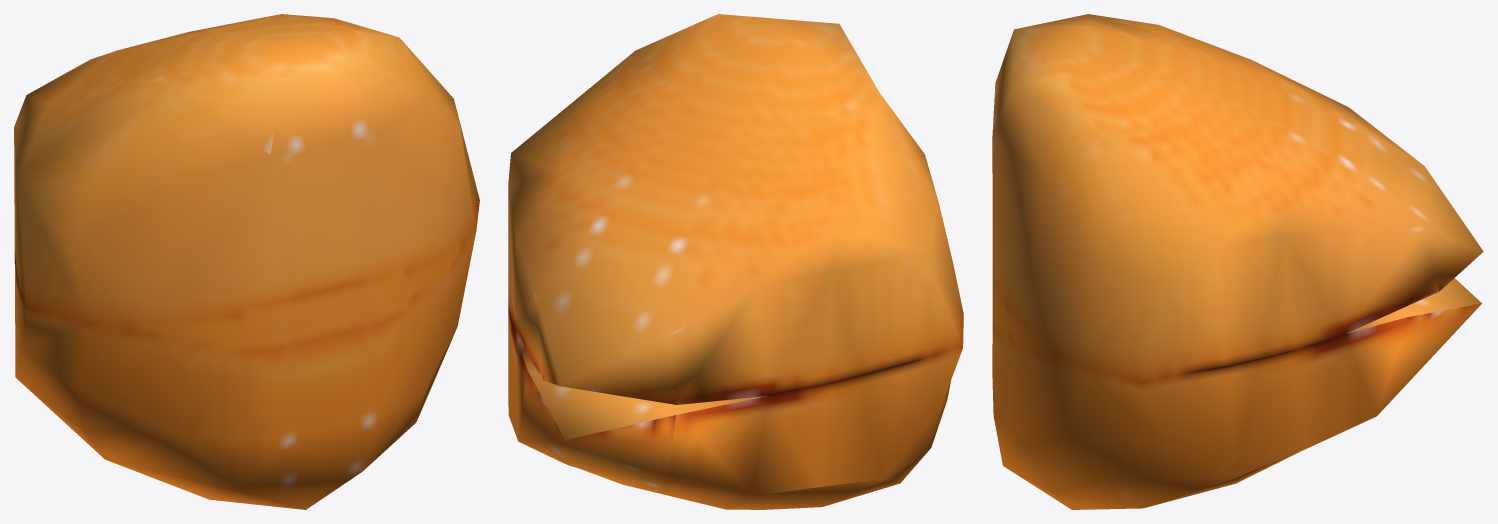
The picture shows the model from 3 angles, left to right: view 1: azimuth 30°, elevation 25°; view 2: azimuth 150°, elevation 25°; view 3: azimuth 270°, elevation 25°; orthographic projection.
Size of the model in its own units: 1.04 by 0.9926 by 0.9991.
1 material, 1 textured.
